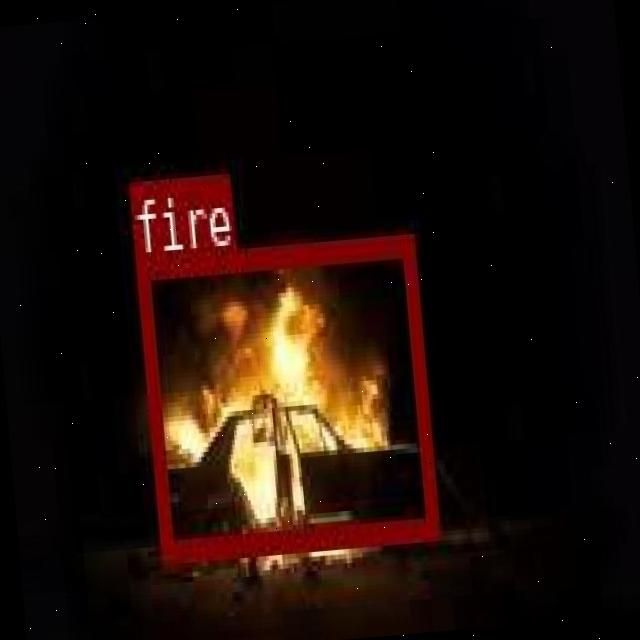fire: (134, 232, 436, 557)
